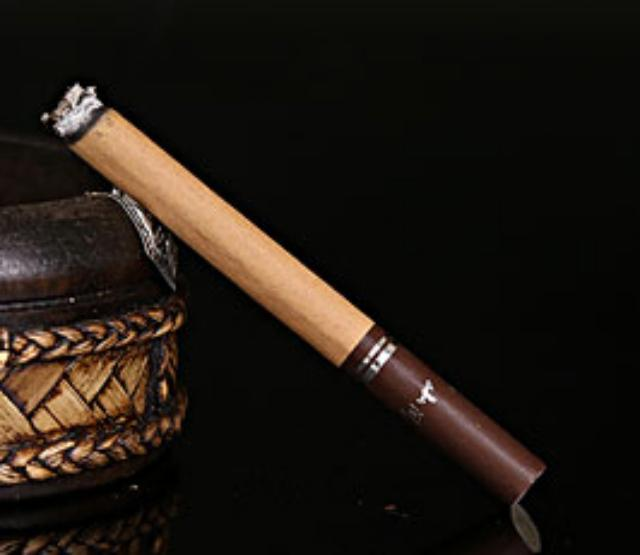Cigarette: (32, 76, 546, 500)
